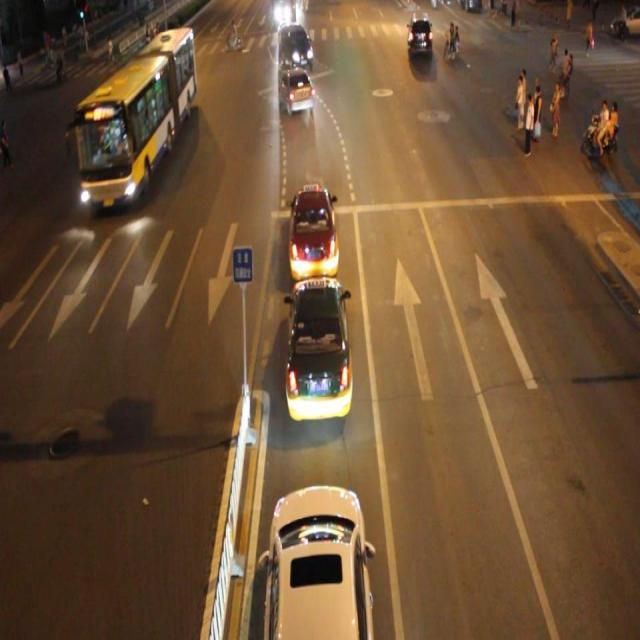car: (259, 479, 375, 640), (282, 274, 354, 422), (285, 182, 343, 280), (278, 67, 314, 113), (280, 23, 313, 68), (407, 10, 432, 56)
van: (74, 27, 192, 210)
